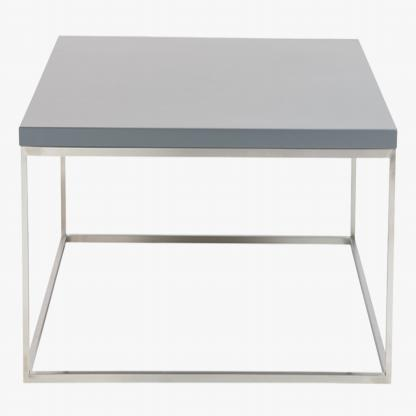table: (17, 32, 398, 386)
